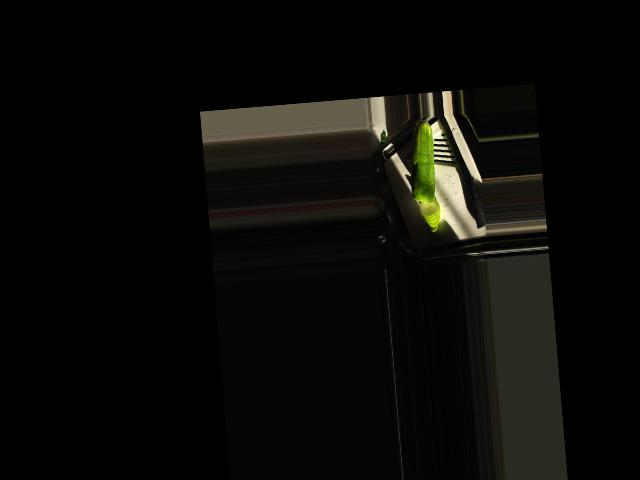cucumber: (406, 119, 438, 205)
